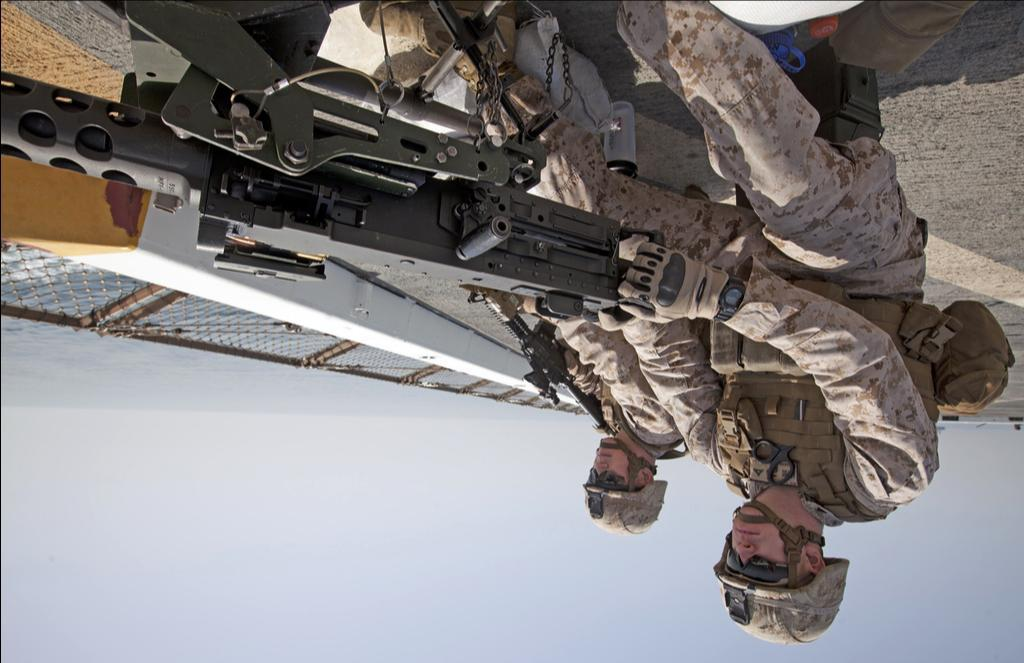gun: (0, 68, 670, 328)
